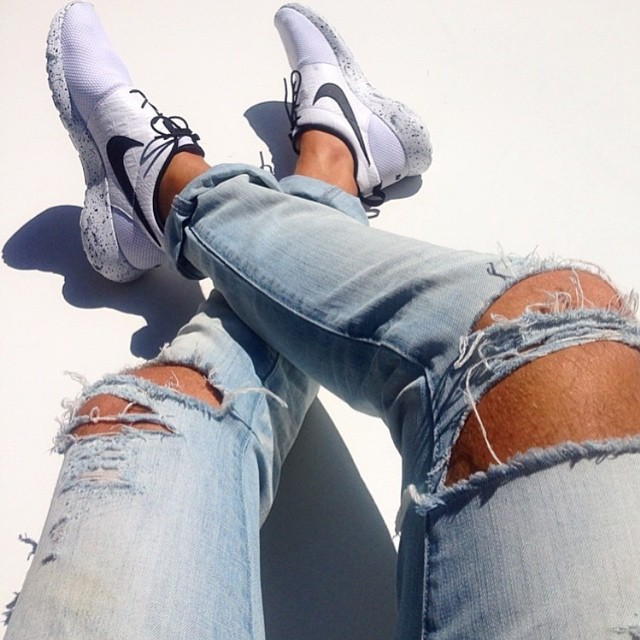sneaker: (24, 1, 225, 298), (261, 1, 445, 206)
